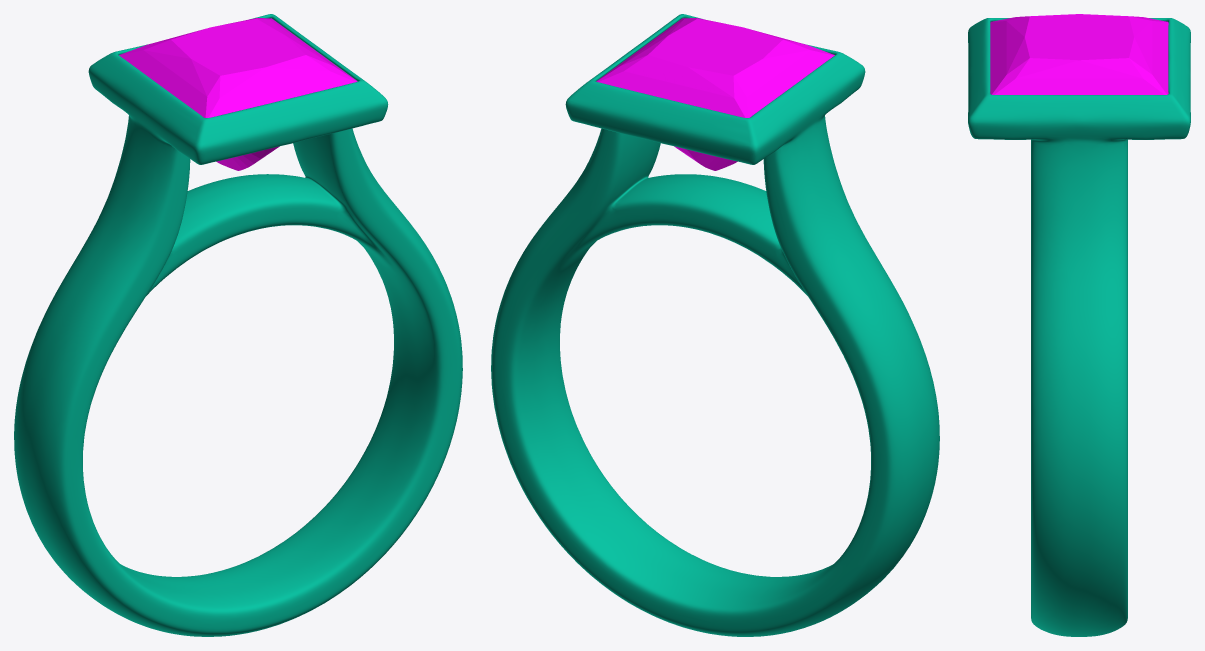
The model's file is BE1964_PR_200ct_RENDER.glb.
3 views of the same model, side by side, from view 1: azimuth 30°, elevation 25°; view 2: azimuth 150°, elevation 25°; view 3: azimuth 270°, elevation 25° (orthographic).
Parts seen in each view (by area): view 1: Metal 01, CS_Diamond_Princess; view 2: Metal 01, CS_Diamond_Princess; view 3: Metal 01, CS_Diamond_Princess.
Boxes of the visible parts, box(x1,y1,x2,y2) form: Metal 01: box(14, 14, 462, 636); CS_Diamond_Princess: box(119, 18, 357, 170); Metal 01: box(491, 14, 939, 636); CS_Diamond_Princess: box(596, 18, 834, 170); Metal 01: box(968, 18, 1190, 636); CS_Diamond_Princess: box(990, 14, 1168, 94).
Bounding box in the file's own units: 20.11 × 26.18 × 9.17.
